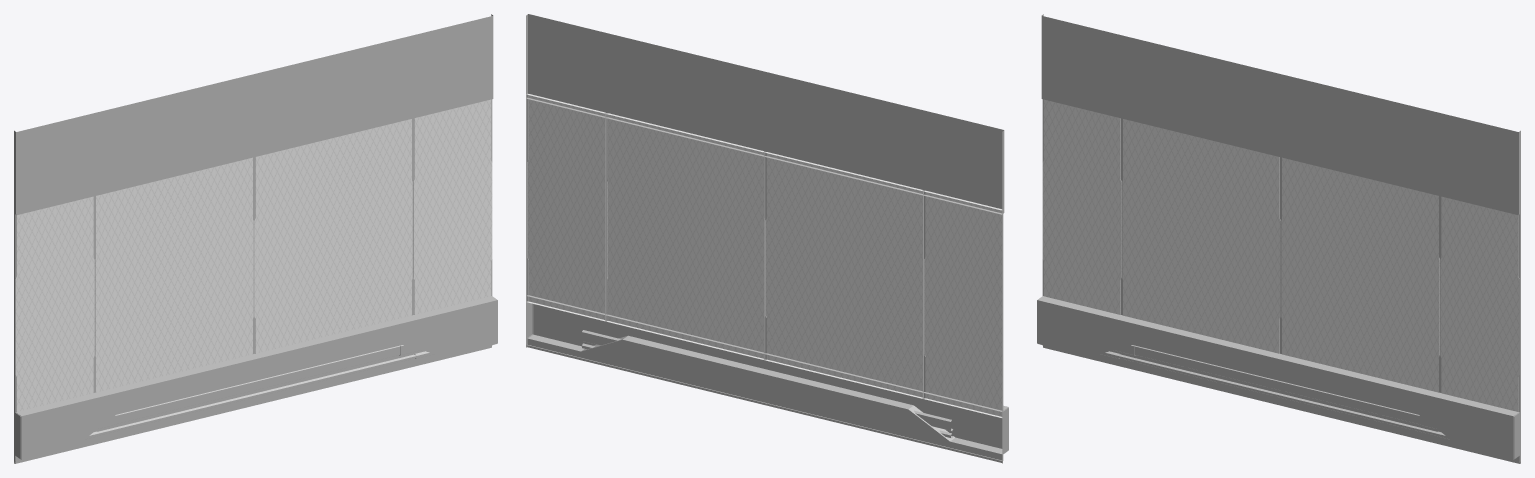
The picture shows the model from 3 angles, left to right: view 1: azimuth 30°, elevation 25°; view 2: azimuth 150°, elevation 25°; view 3: azimuth 330°, elevation 25°; orthographic projection.
Parts seen in each view (by area): view 1: M_W_102_c_12x8; view 2: M_W_102_c_12x8; view 3: M_W_102_c_12x8.
Boxes of the visible parts, bbox=[...] form: M_W_102_c_12x8: bbox=[14, 14, 497, 463]; M_W_102_c_12x8: bbox=[526, 14, 1008, 463]; M_W_102_c_12x8: bbox=[1037, 14, 1520, 463].
Size of the model in its own units: 12 by 8 by 0.3002.
